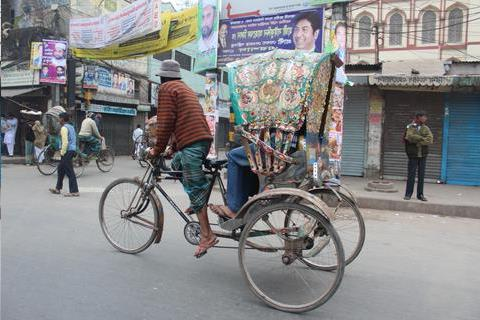Rickshaw: (108, 42, 365, 301), (38, 100, 115, 182), (136, 110, 186, 187)
